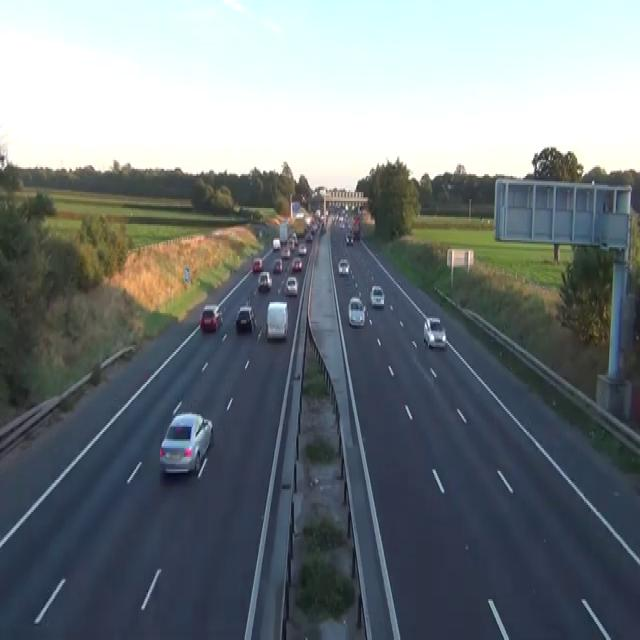Car: (159, 411, 213, 476), (423, 316, 446, 348), (200, 304, 222, 331), (348, 297, 367, 327), (235, 304, 256, 331), (370, 284, 385, 308), (257, 270, 272, 290), (285, 276, 298, 295), (337, 258, 349, 276), (291, 256, 302, 270), (252, 258, 262, 272), (272, 258, 282, 272), (280, 247, 290, 258), (272, 237, 280, 250), (287, 238, 295, 251), (295, 208, 304, 219), (345, 233, 353, 245), (298, 242, 306, 254), (291, 231, 298, 244), (305, 215, 313, 226), (353, 228, 360, 240), (305, 231, 312, 242), (311, 224, 318, 235), (338, 217, 345, 227), (322, 222, 326, 233)
Truck: (266, 300, 288, 340), (279, 220, 288, 243)
